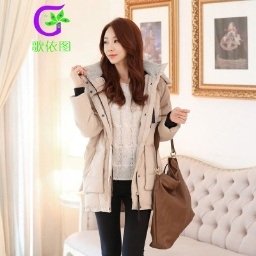face: (97, 17, 147, 74)
